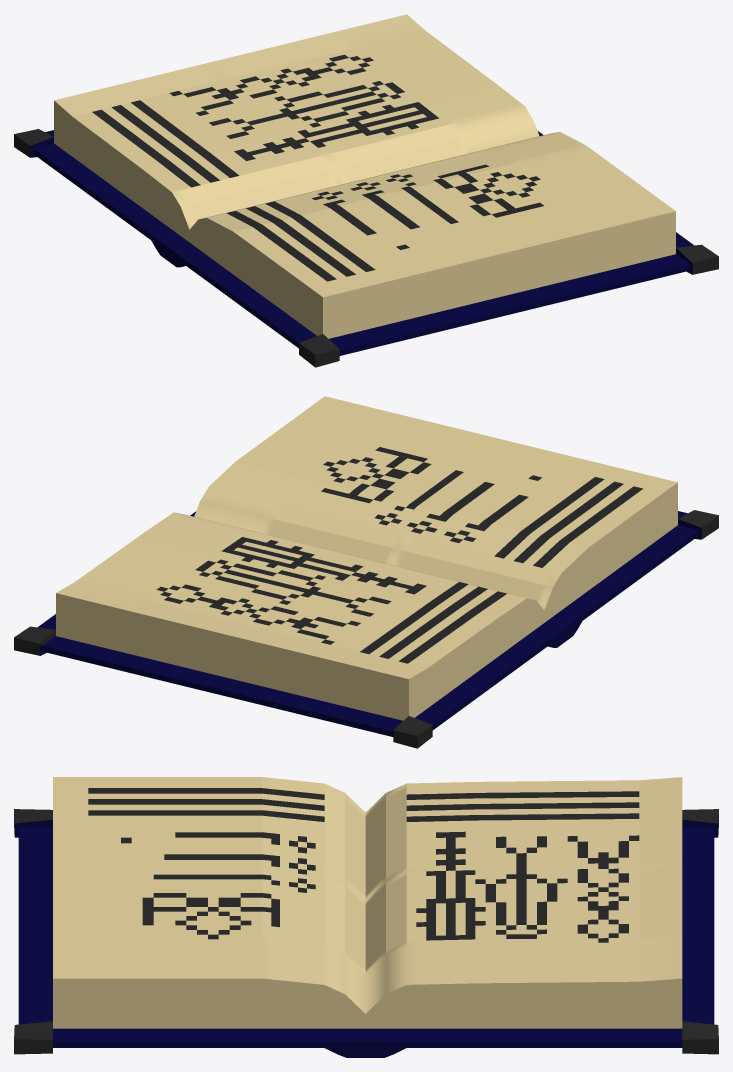
Rendered from open_book.fbx.
3 renders of one model, top to bottom at view 1: azimuth 30°, elevation 25°; view 2: azimuth 150°, elevation 25°; view 3: azimuth 270°, elevation 25°, orthographic. The views are drawn at different scales.
Visible parts, largest first — view 1: pCube101; view 2: pCube101; view 3: pCube101.
Part boxes in pixels (box(x1,y1,x2,y2)): pCube101: box(14, 14, 718, 367); pCube101: box(14, 396, 718, 748); pCube101: box(14, 777, 718, 1057).
Size of the model in its own units: 578 by 77.79 by 748.
